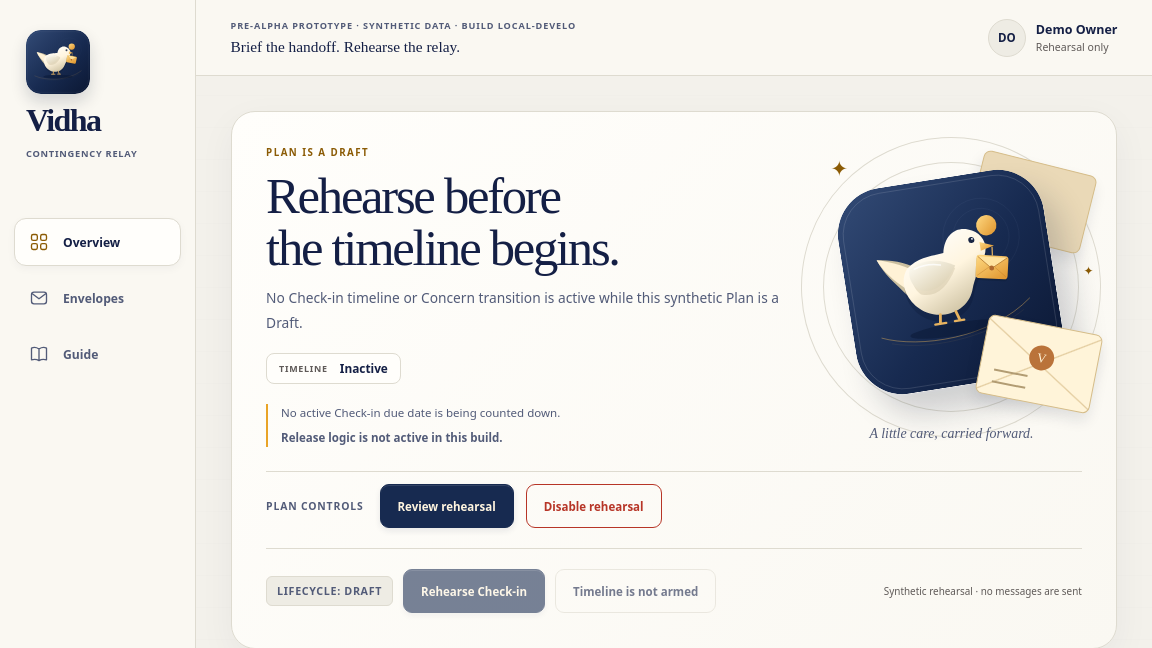
Scenario: Vidha synthetic foundation app › does not report a draft update without an Owner mutation
This screenshot has width=1152, height=648.
Click the button "Envelopes" at (98,298), box [14,274,181,322]
Wait 1000 ms
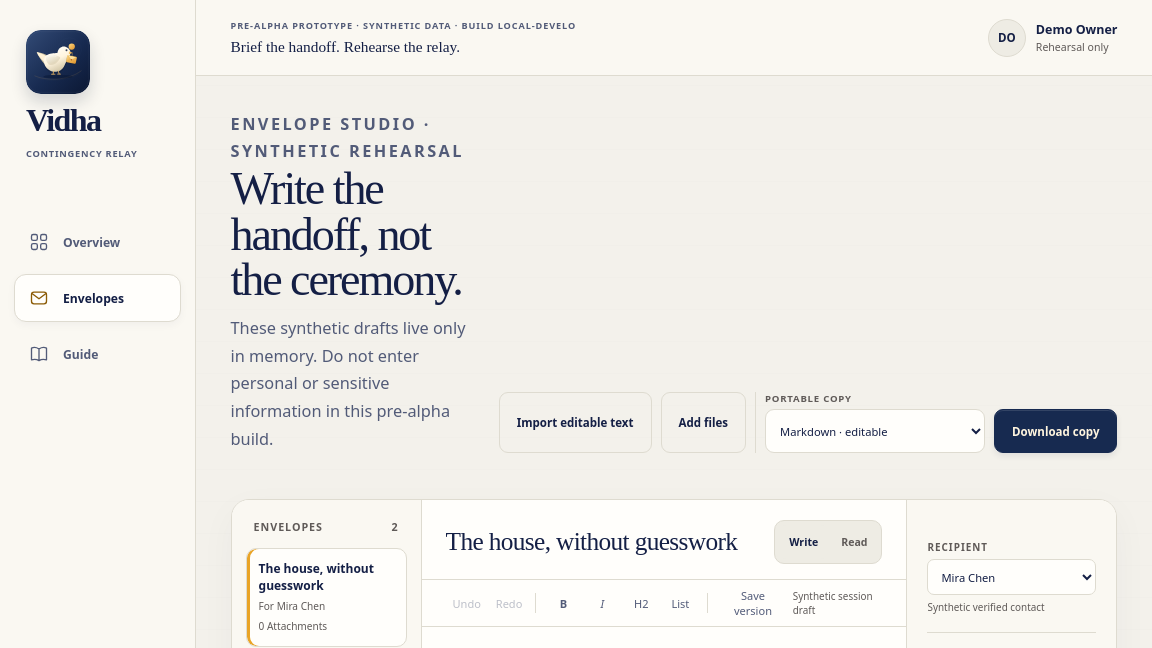
Expected: the text "Synthetic session draft" is shown, [793,590,882,618]
